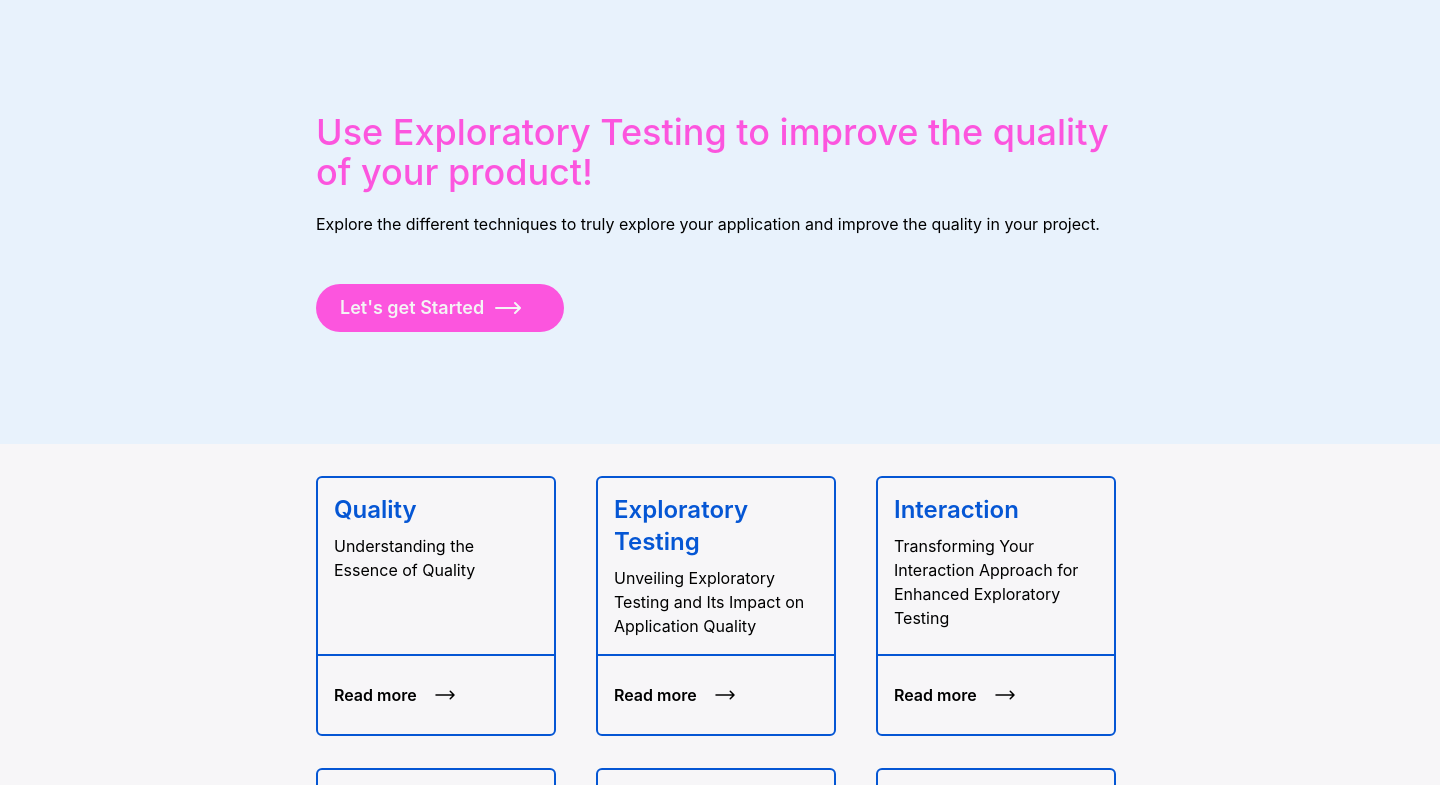
Test case: links › event route
Expected: the heading "Use Exploratory Testing to improve the quality of your product!" is shown, [316,112,1124,212]
What coordinates should you click on to do the following:
click the link "Let's get Started"
I would click on:
 (440, 308)
Its box is [316,284,564,332].
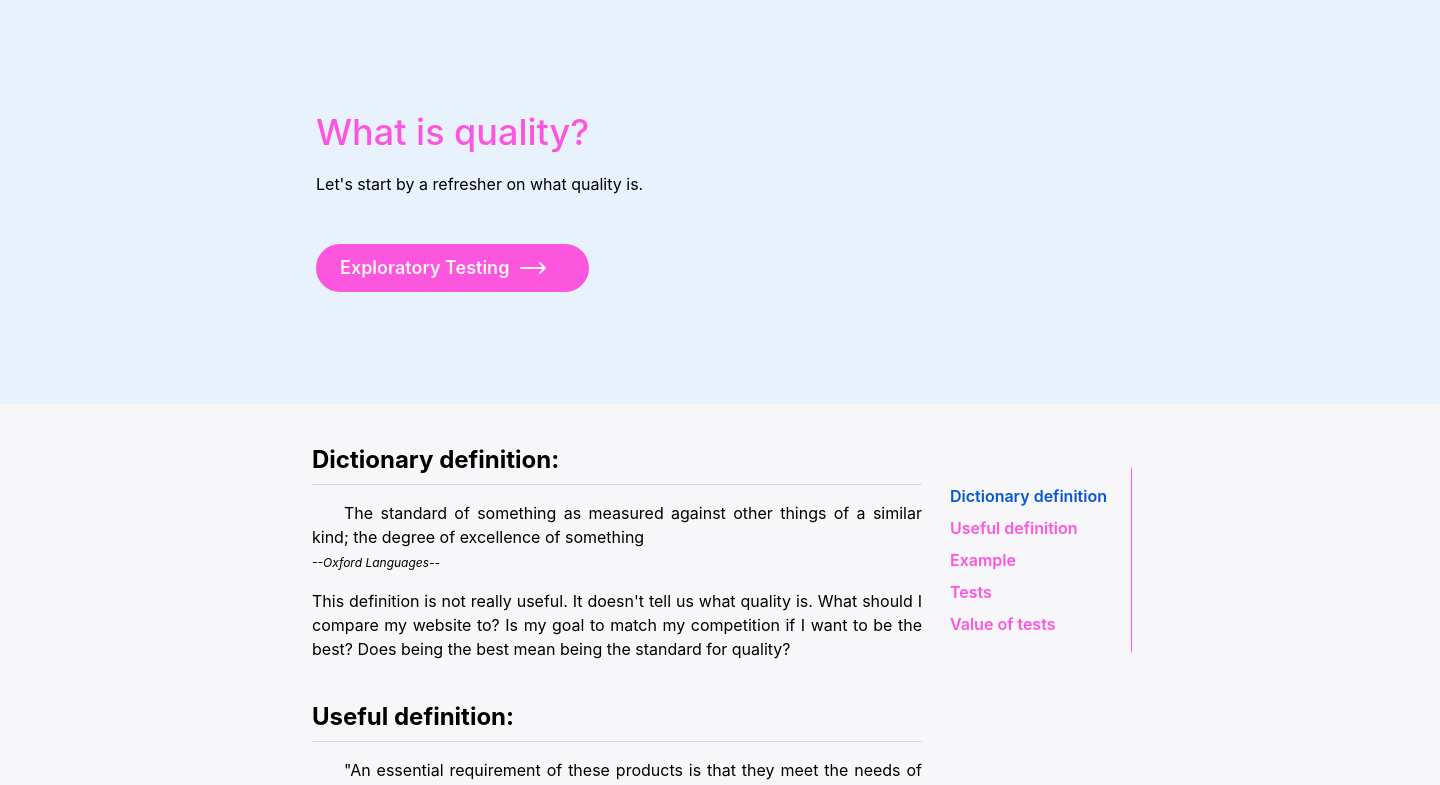
Now the heading "What is quality?" is shown, box [316,110,589,154]
